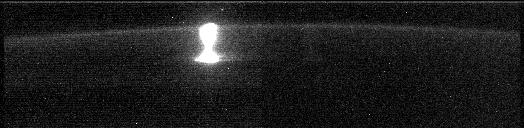positive: (195, 21, 222, 50)
